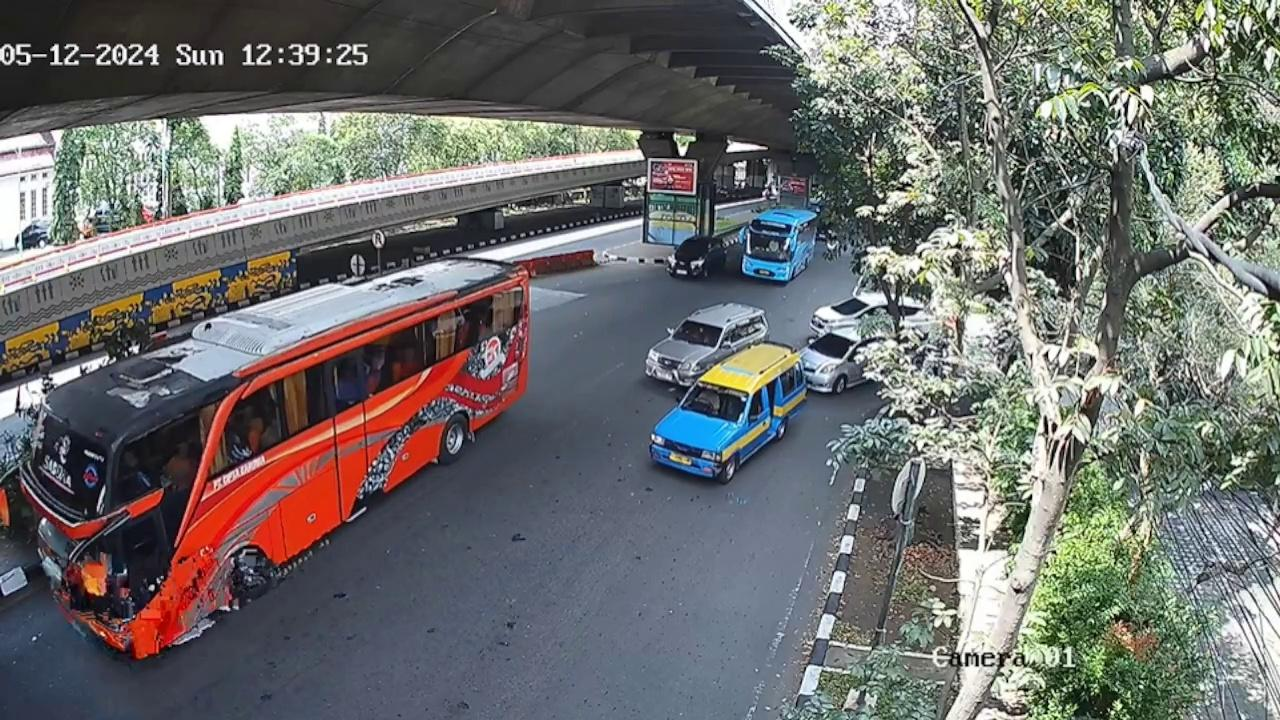tidak-pakai: (695, 388, 723, 417)
windshield: (676, 383, 749, 425), (671, 316, 719, 352)
